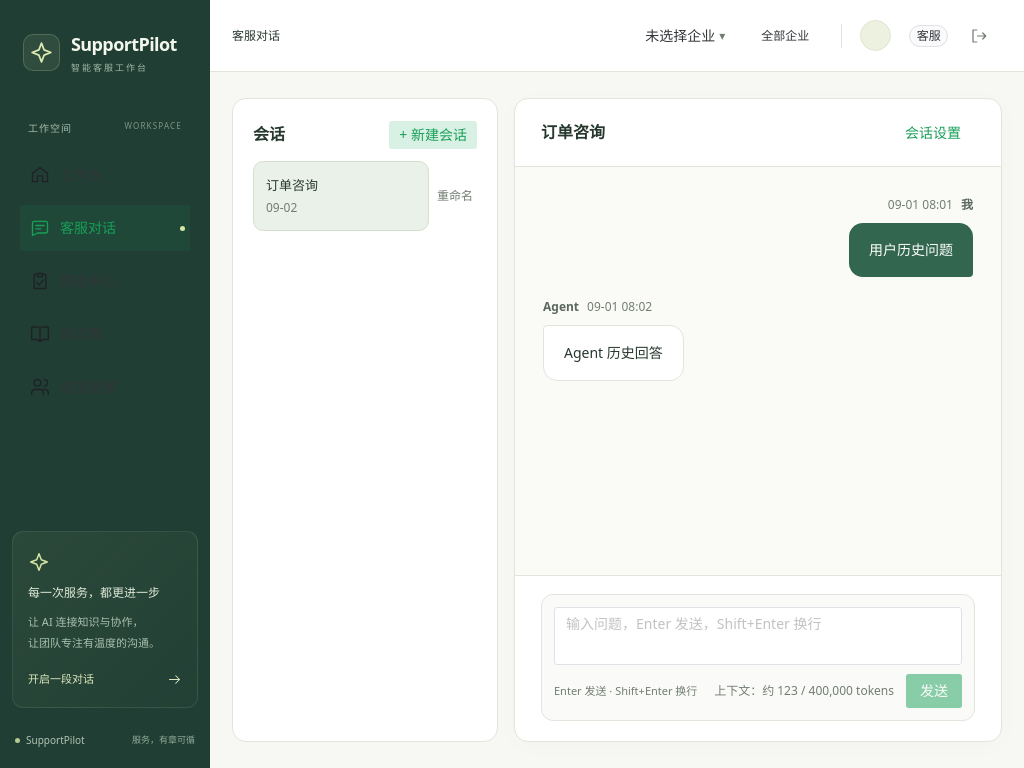
Test: ChatView 进入会话 › 发送消息成功：展示 Agent 回答并清空输入
This screenshot has width=1024, height=768.
Step 1. Type "请问退款多久到账" into the text box with placeholder "输入问题，Enter 发送，Shift+Enter 换行" → (758, 636), box [566,607,950,665]
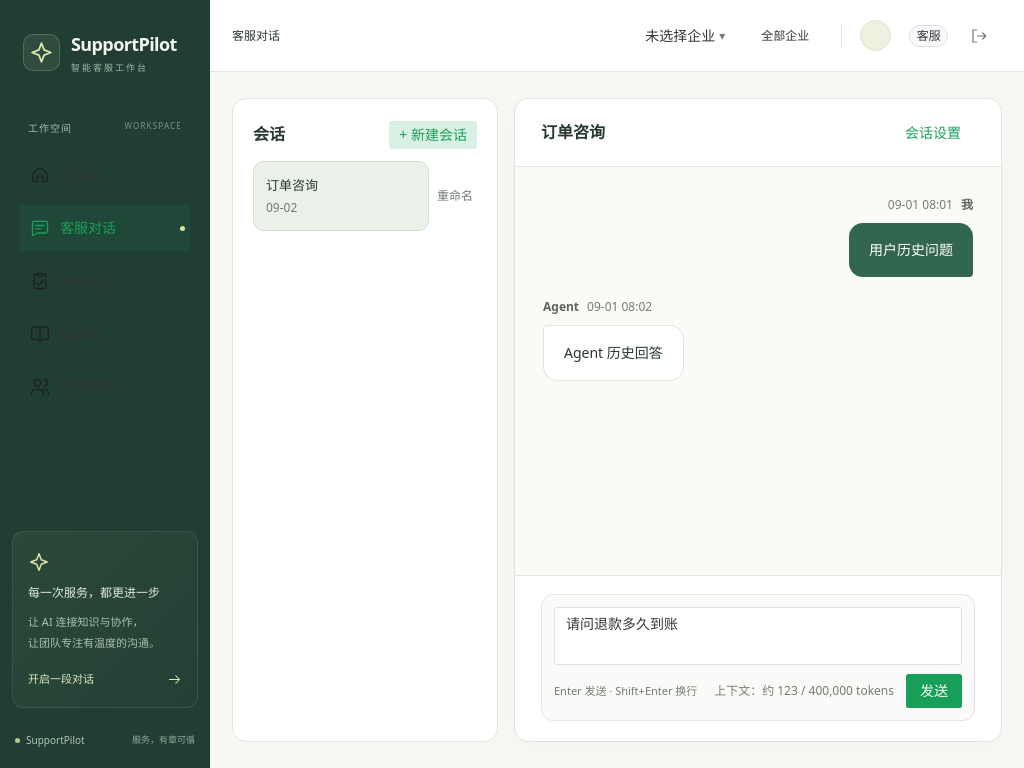
Step 2. Click the button with test id "chat-send" → (934, 691), box [906,674,962,708]
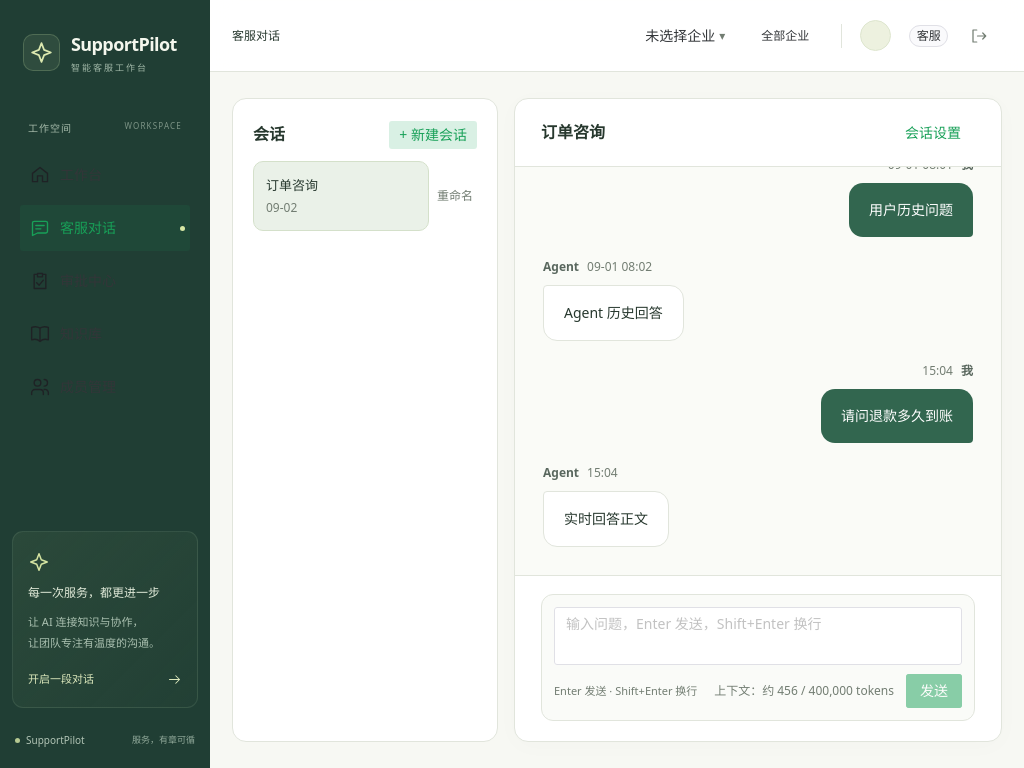
Check: the text "实时回答正文" is shown, box [564,507,648,531]
Check: the text with test id "chat-context-tokens" shows "456 / 400,000 tokens", box [714,682,894,699]
Check: the text box with placeholder "输入问题，Enter 发送，Shift+Enter 换行" is empty, box [566,607,950,665]
